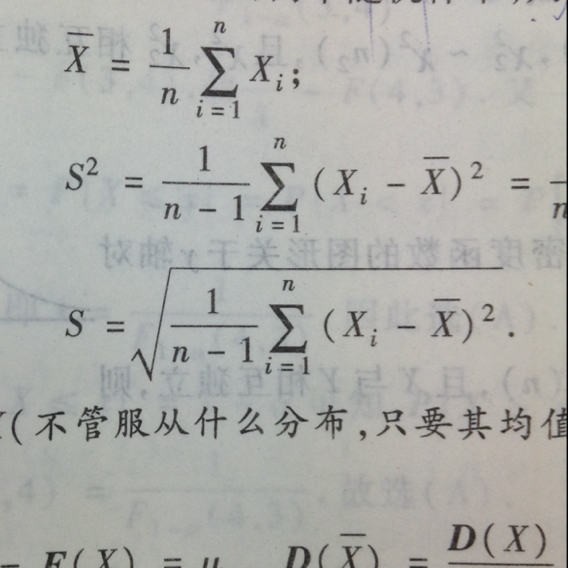division: (159, 176, 249, 193), (168, 319, 259, 333), (150, 64, 190, 72)
sqrt: (127, 257, 519, 391)
square: (467, 159, 483, 183), (479, 304, 497, 322), (87, 154, 99, 176)
